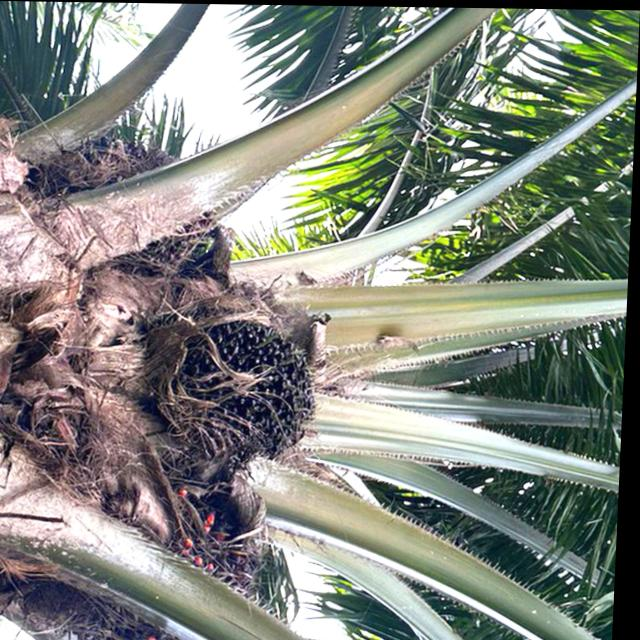unripe: (164, 298, 332, 461)
